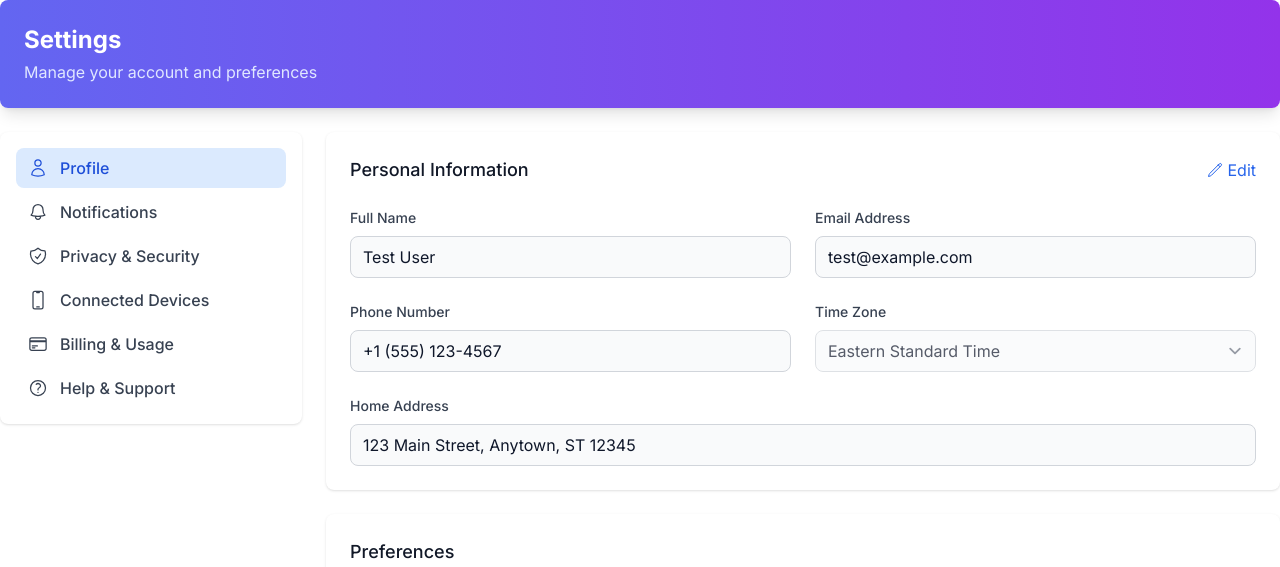
Test: ConsumerSettings › Navigation › switches to privacy section when clicked
Click the button "Privacy & Security".
click(151, 256)  # box [16,236,286,276]
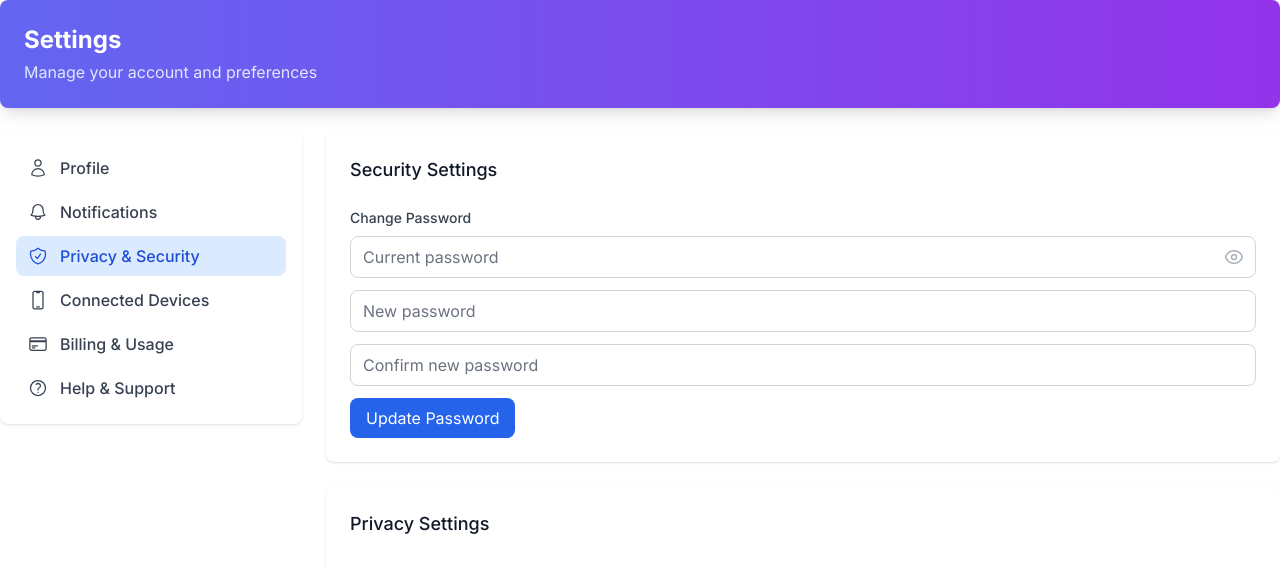
Expected: the heading "Security Settings" is shown, [350,159,497,180]
Expected: the heading "Privacy Settings" is shown, [350,513,489,534]
